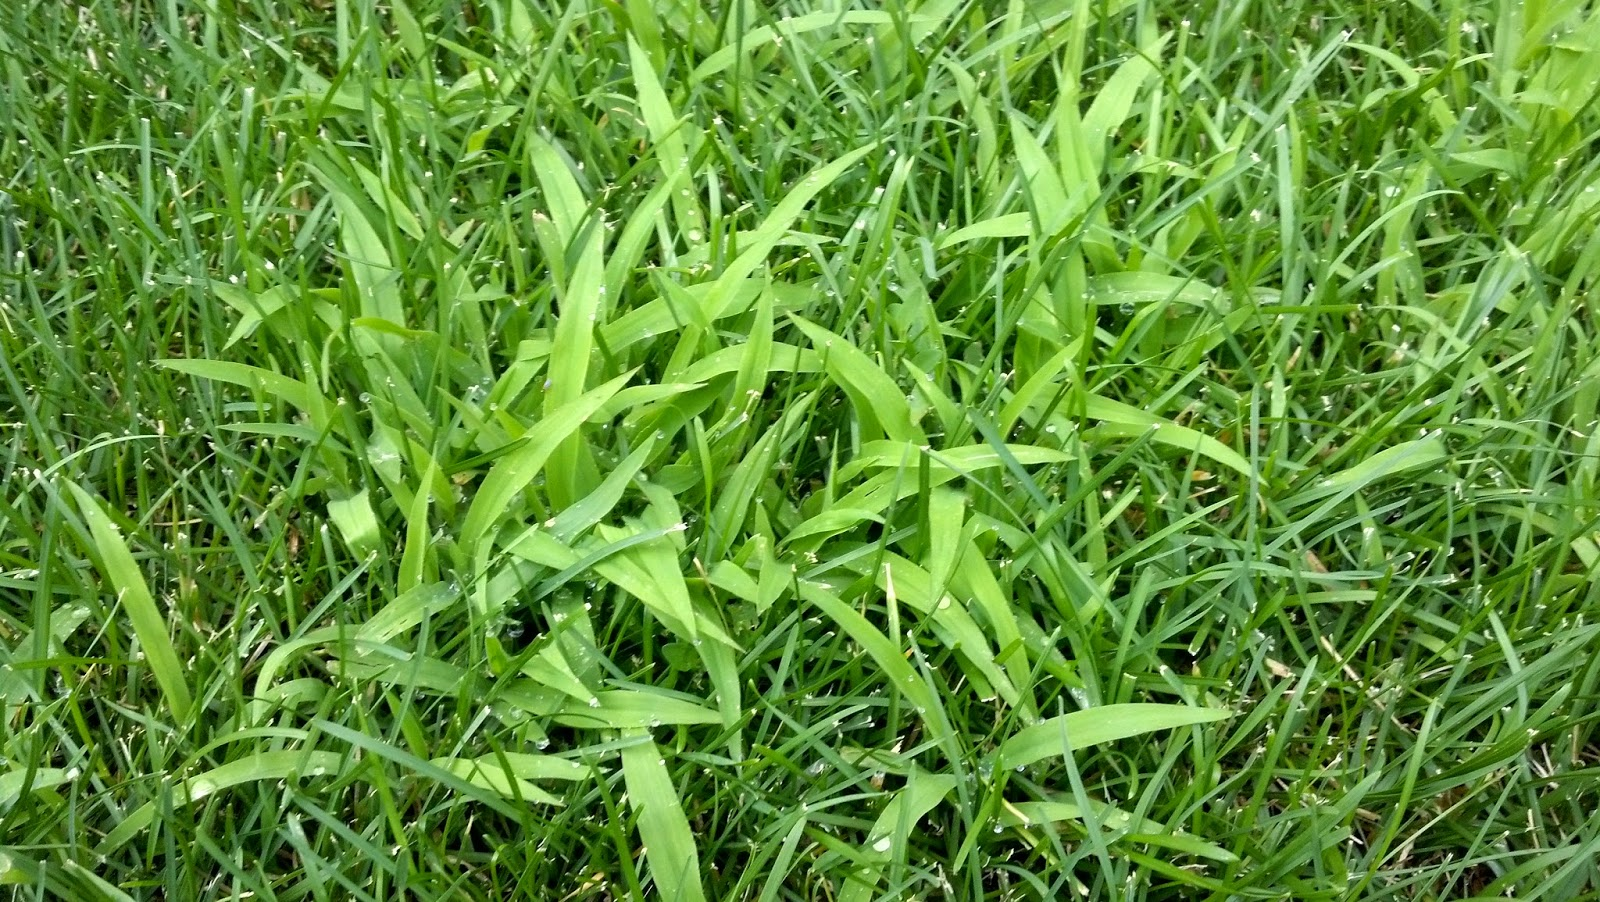crabgrass: (170, 164, 785, 775), (816, 131, 1169, 851)
